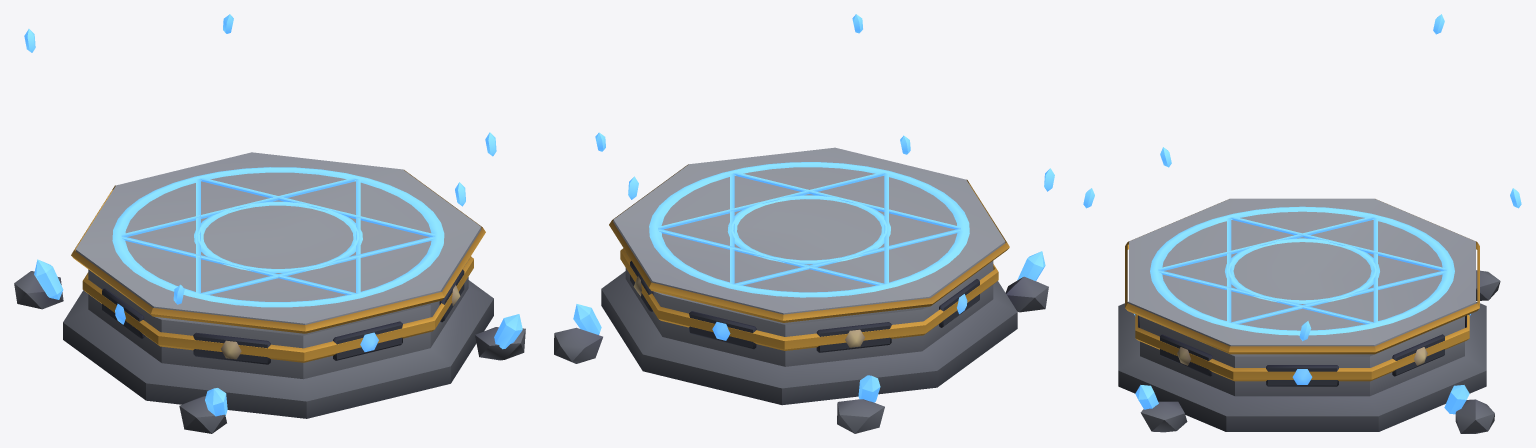
Rendered from plinth.glb.
3 renders of one model, left to right at view 1: azimuth 30°, elevation 25°; view 2: azimuth 150°, elevation 25°; view 3: azimuth 270°, elevation 25°, orthographic. The views are drawn at different scales.
Parts seen in each view (by area): view 1: base, orbit; view 2: base, orbit; view 3: base, orbit.
Part boxes in pixels (<box>): base: <box>14,152,525,433</box>; orbit: <box>24,14,496,304</box>; base: <box>554,147,1048,433</box>; orbit: <box>595,14,1054,199</box>; base: <box>1118,198,1500,433</box>; orbit: <box>1083,14,1521,341</box>.
Size of the model in its own units: 2.87 by 2.08 by 2.99.
